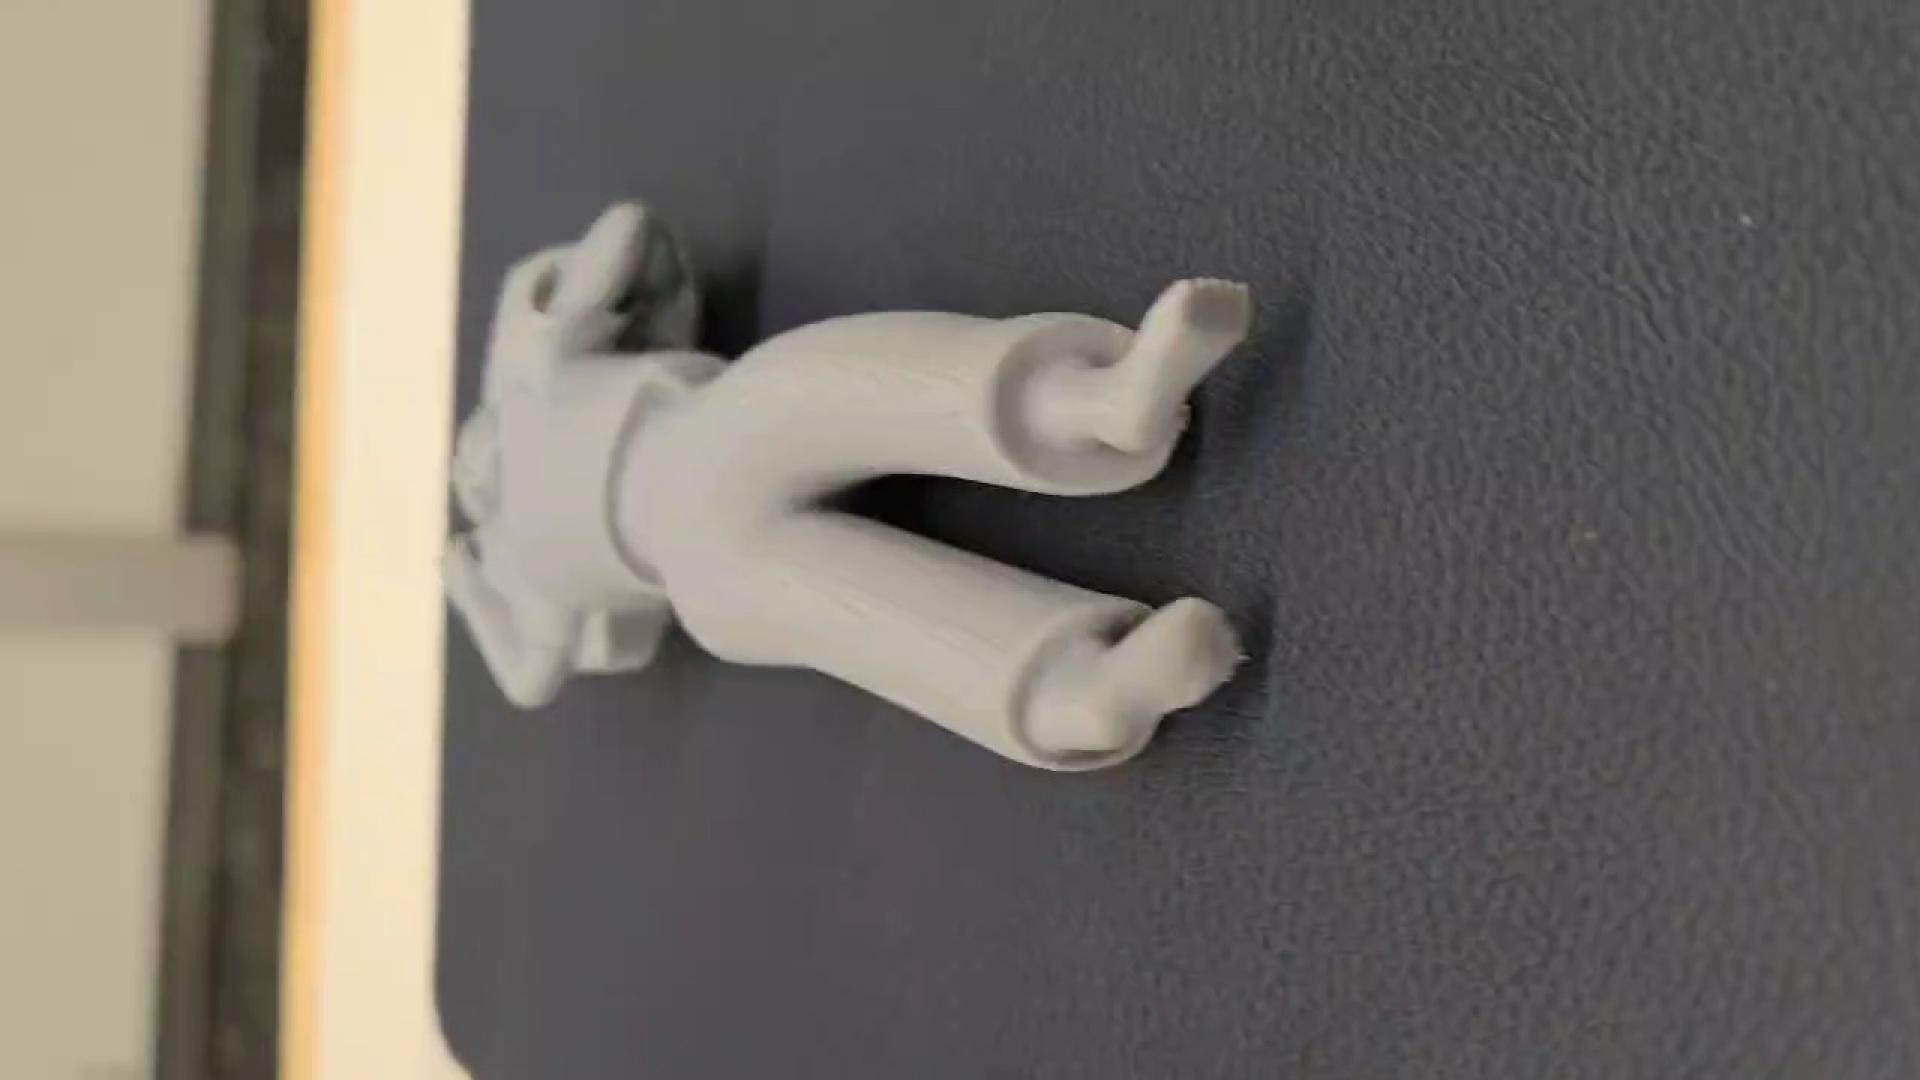Bad-style: (415, 202, 1257, 775)
